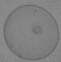small: (31, 24, 42, 35)
